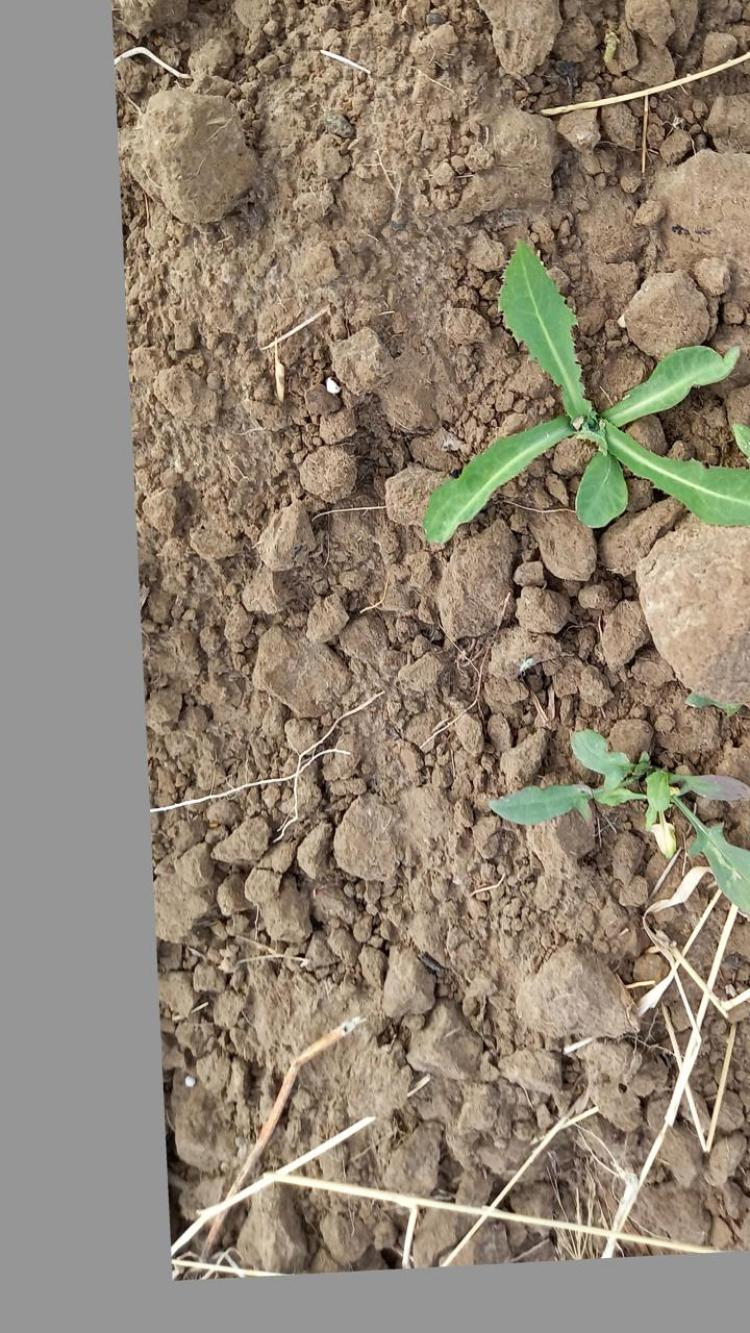osot: (421, 236, 750, 560)
